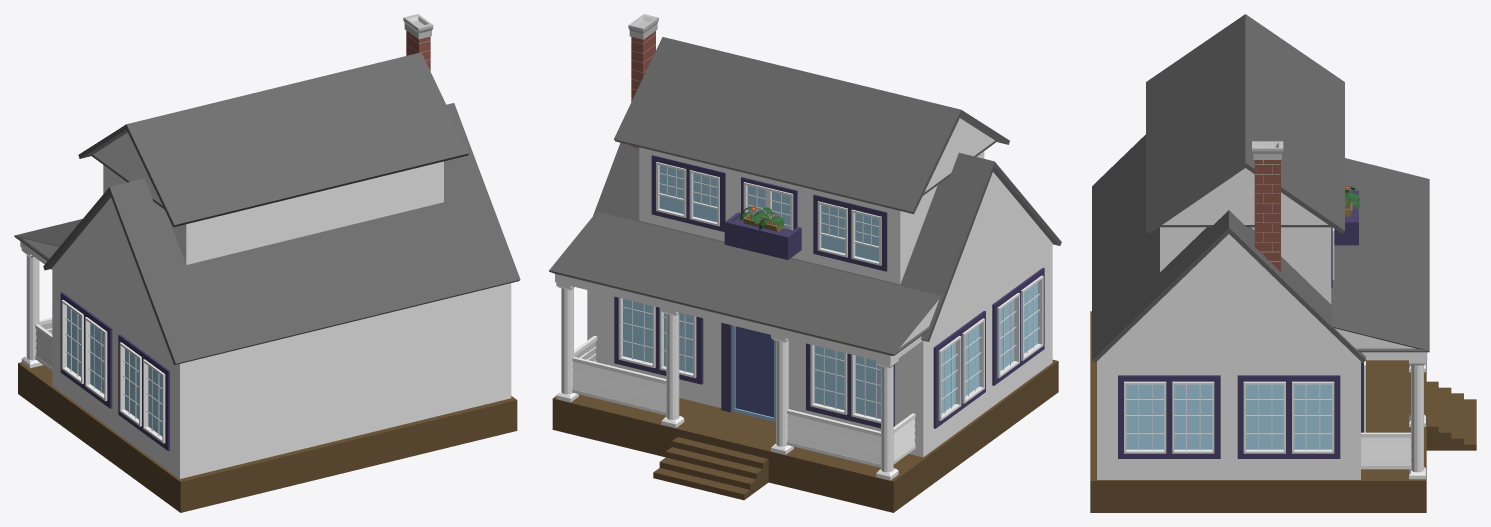
Rendered from house.glb.
3 views of the same model, side by side, from view 1: azimuth 30°, elevation 25°; view 2: azimuth 150°, elevation 25°; view 3: azimuth 270°, elevation 25° (orthographic). The views are drawn at different scales.
Visible parts, largest first — view 1: house; view 2: house; view 3: house.
Boxes of the visible parts, <box> form: house: <box>14,14,520,512</box>; house: <box>549,14,1061,512</box>; house: <box>1090,14,1476,512</box>.
Size of the model in its own units: 9.36 by 9.08 by 8.79.
Materials: 1 (1 with a texture image).
